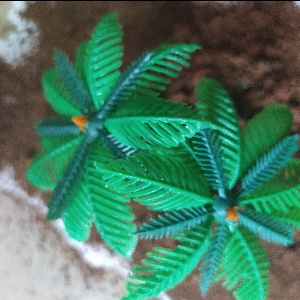plant: (28, 16, 286, 292)
